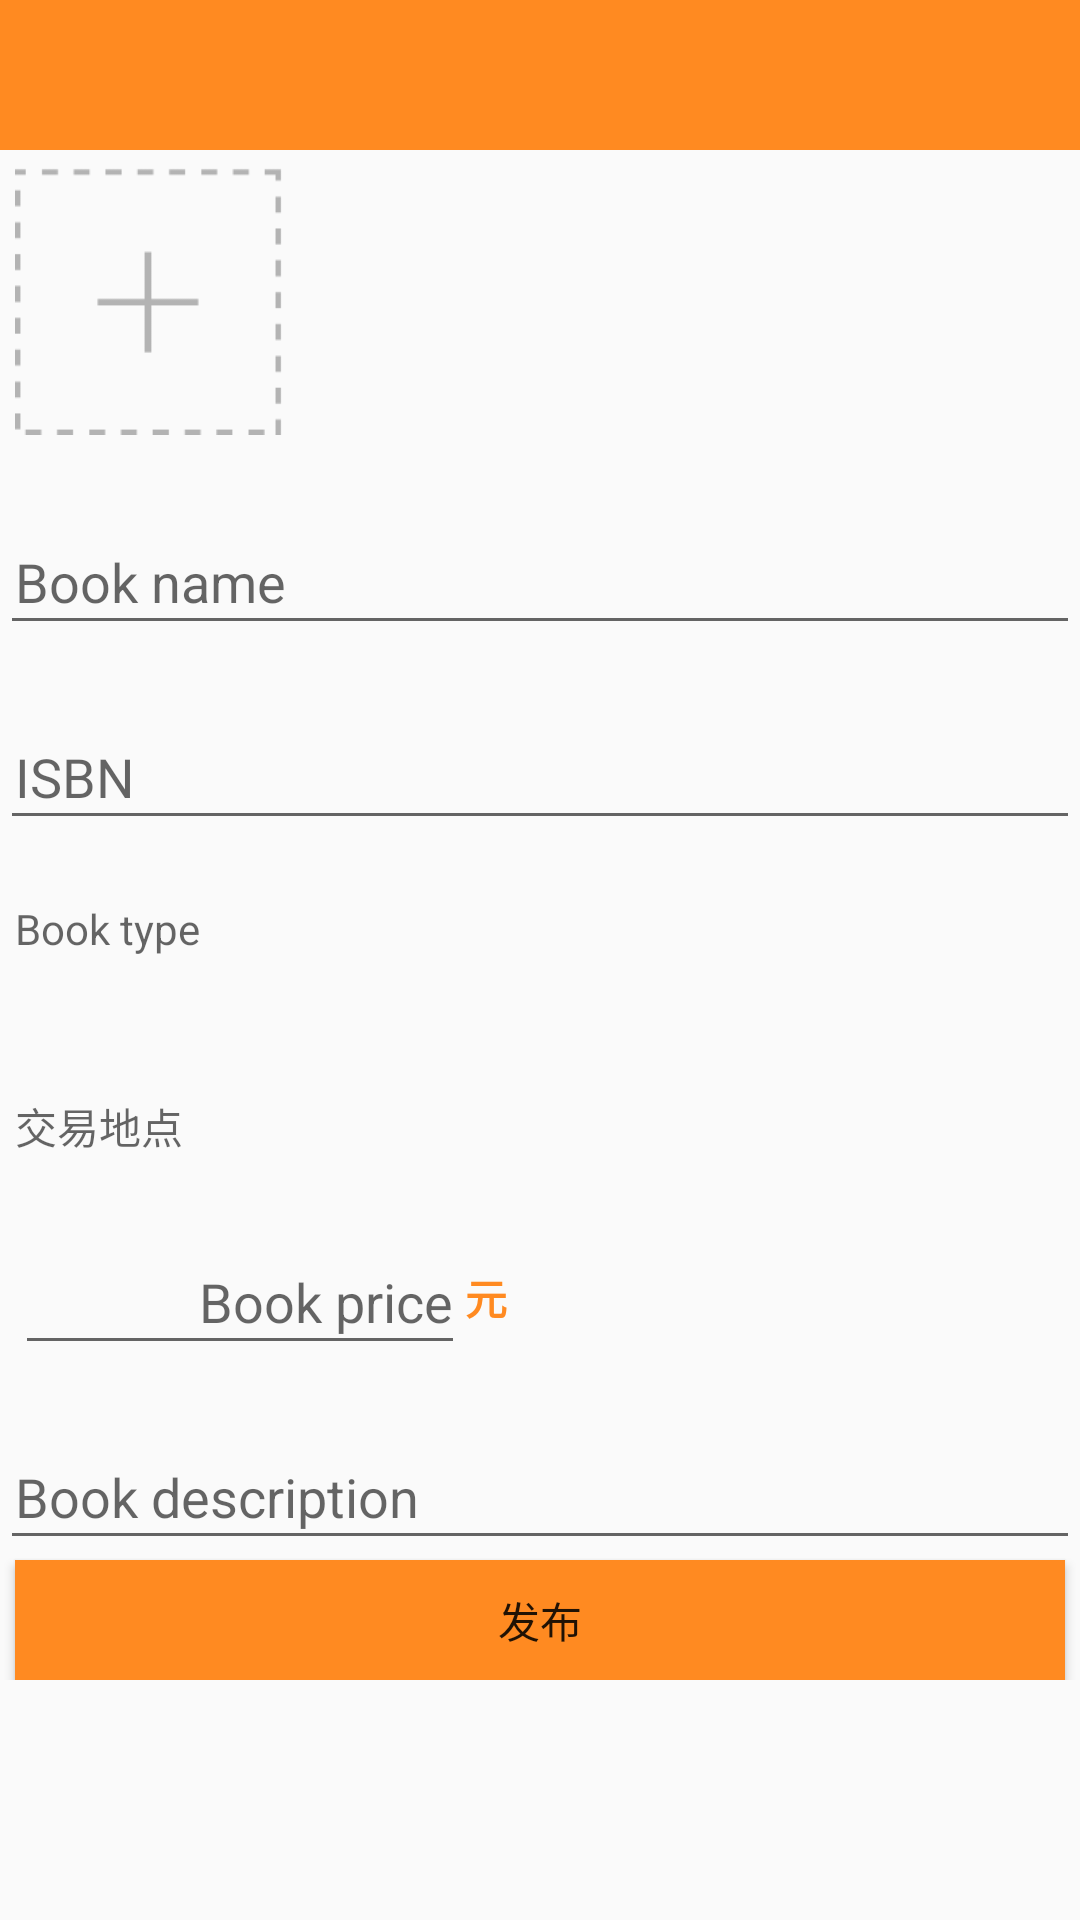

Icon click points for this 1080×1920 phone screenshot, format [x,y]:
add: [148,302]
